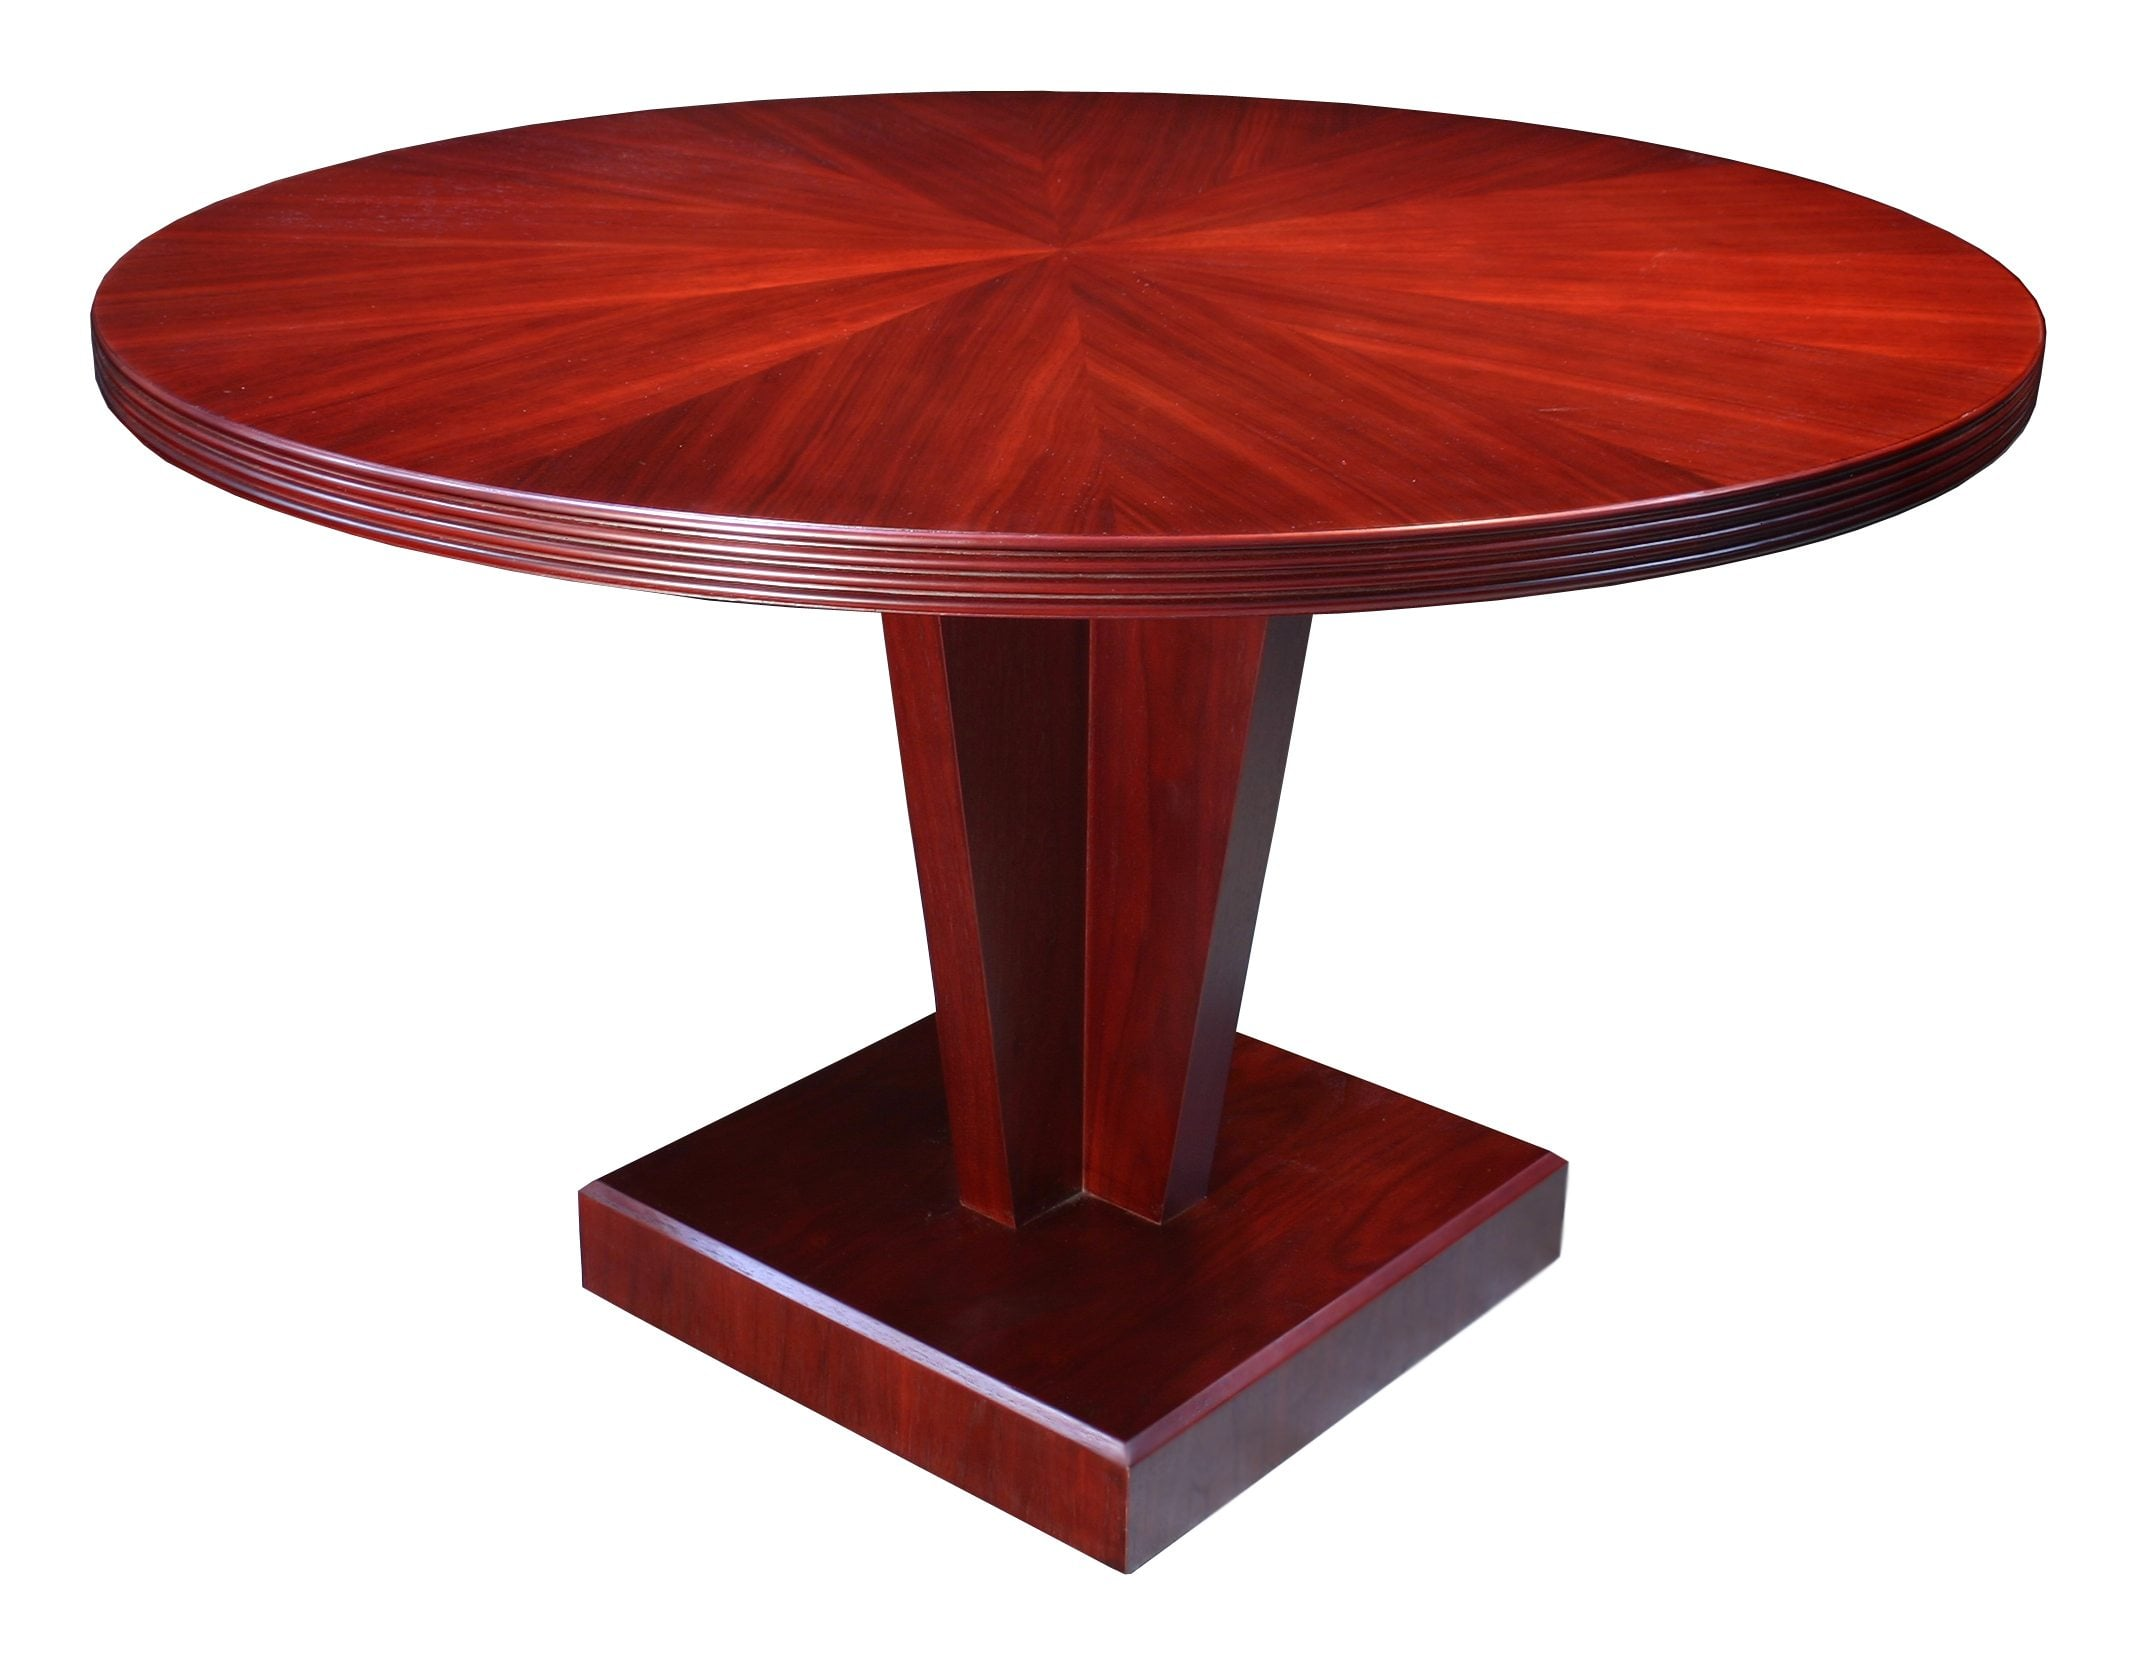conference_table: (92, 92, 2049, 1568)
